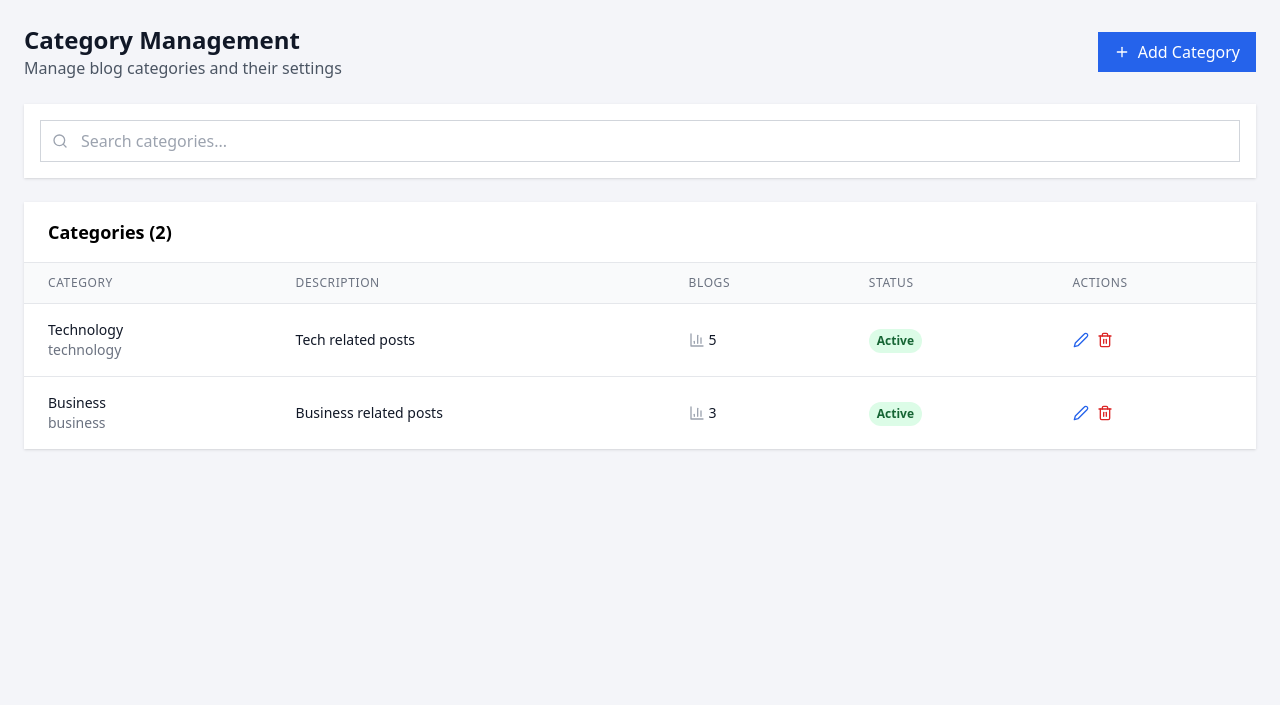
Scenario: CategoryManagement › Edit Category › opens edit form when edit button is clicked
expect the text "Technology" is shown: met, box top-left (48, 320), bottom-right (123, 339)
Click the 2nd button: {"x": 1081, "y": 340} top-left (1073, 332), bottom-right (1089, 348)
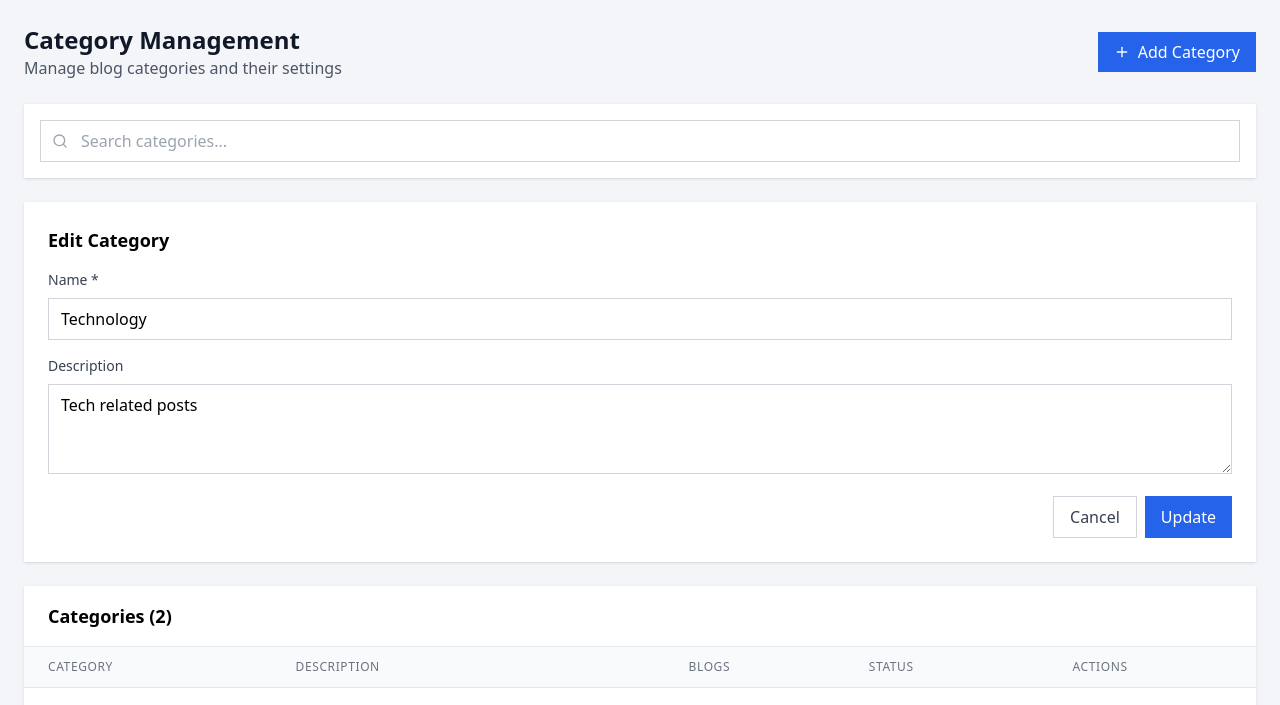
expect the heading "Edit Category" is shown: met, box top-left (48, 228), bottom-right (169, 252)
